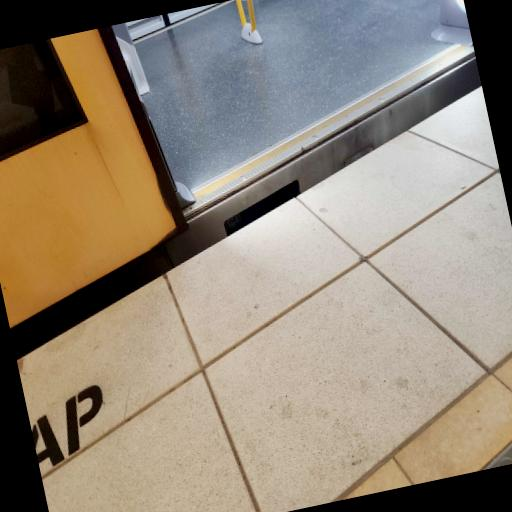gap: (10, 50, 481, 360)
